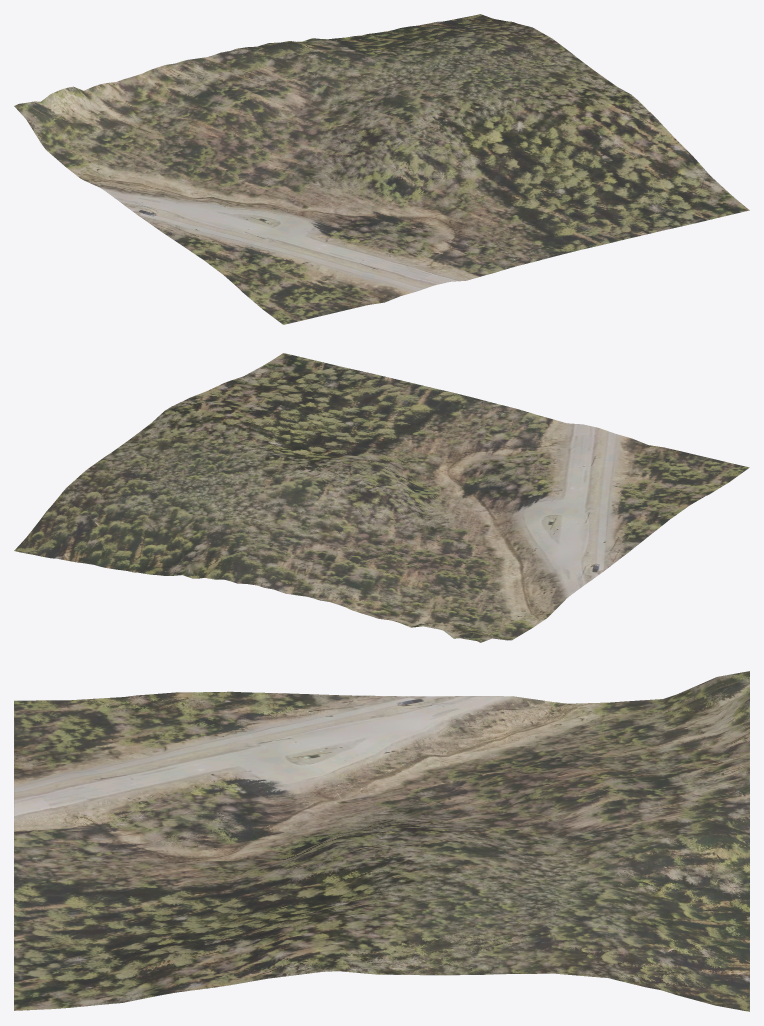
File: CM_Terrain_24493121_6815493.fbx
3 renders of one model, top to bottom at view 1: azimuth 30°, elevation 25°; view 2: azimuth 150°, elevation 25°; view 3: azimuth 270°, elevation 25°, orthographic. The views are drawn at different scales.
Visible parts, largest first — view 1: CM_Terrain_24493121_6815493_LOD0; view 2: CM_Terrain_24493121_6815493_LOD0; view 3: CM_Terrain_24493121_6815493_LOD0.
Boxes of the visible parts, left/top/right/bottom form: CM_Terrain_24493121_6815493_LOD0: left=14, top=14, right=749, bottom=324; CM_Terrain_24493121_6815493_LOD0: left=14, top=353, right=749, bottom=642; CM_Terrain_24493121_6815493_LOD0: left=14, top=671, right=749, bottom=1011.
Size of what is drawn, in the model's own units: 205 by 16.94 by 205.
